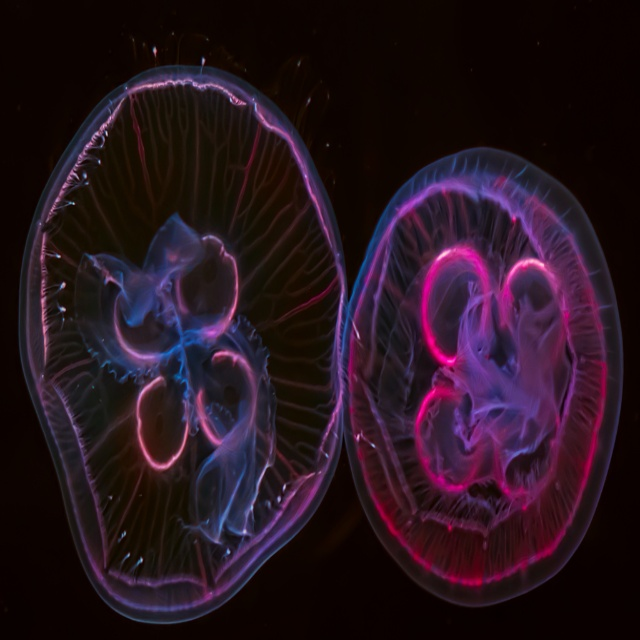Jellyfish: (16, 61, 351, 628), (339, 142, 624, 606)
